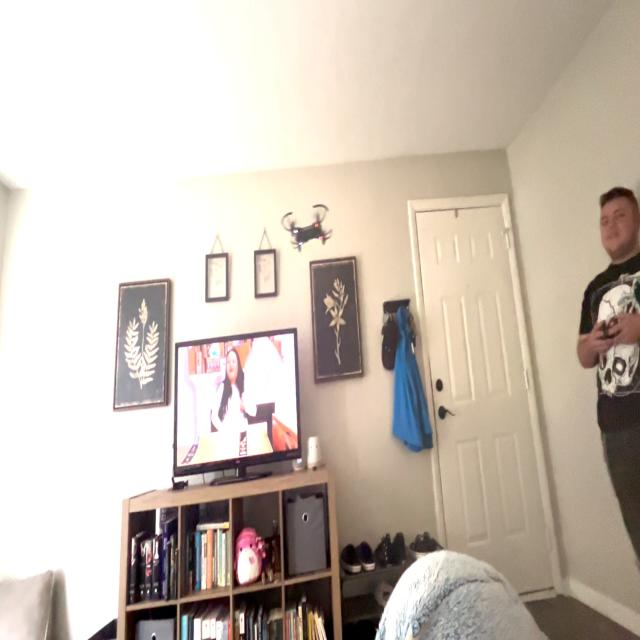drone: (268, 184, 341, 272)
